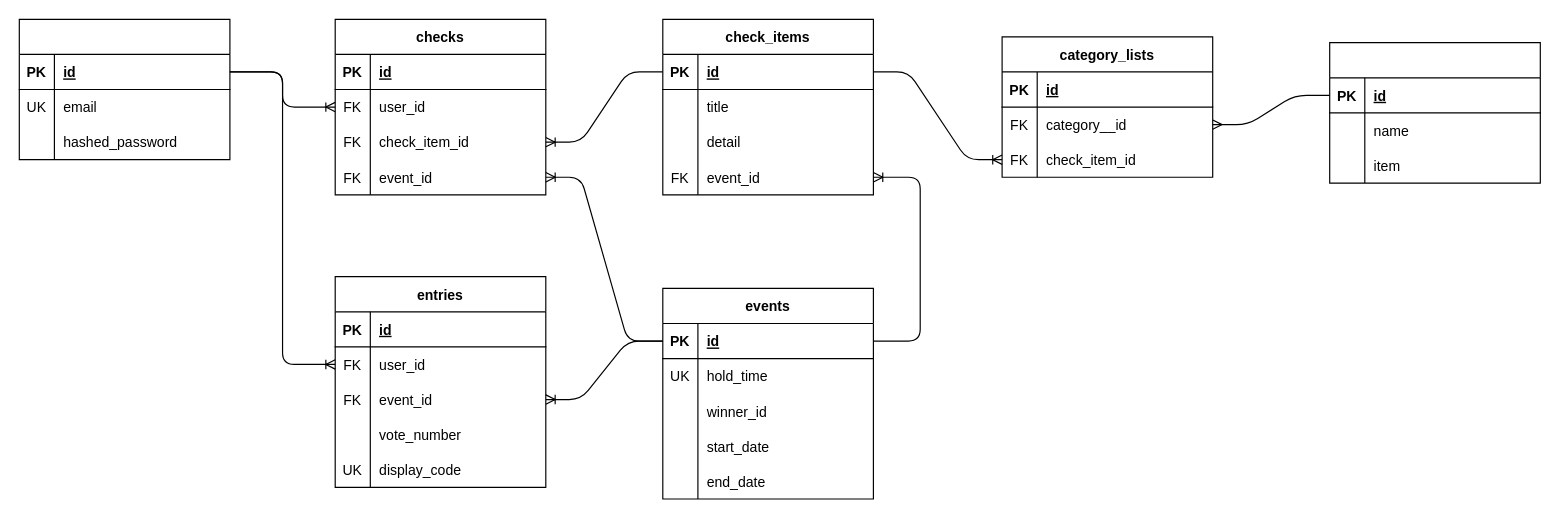
This 1560x518 diagram has some shape labels left out. Here are the shapes that lost their labels. From the top down, the box of each, then its label:
(18, 18, 230, 160): users
(1329, 42, 1540, 183): categories
